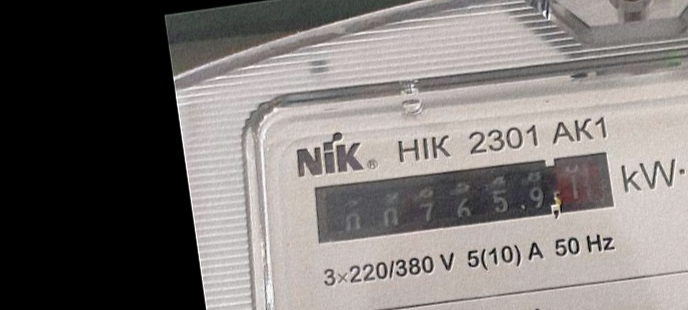0: (379, 203, 402, 230), (342, 207, 363, 235)
1: (565, 170, 584, 203)
5: (487, 185, 512, 215)
6: (452, 193, 474, 220)
7: (415, 198, 438, 226)
9: (525, 182, 546, 211)
screen: (299, 131, 627, 265)
